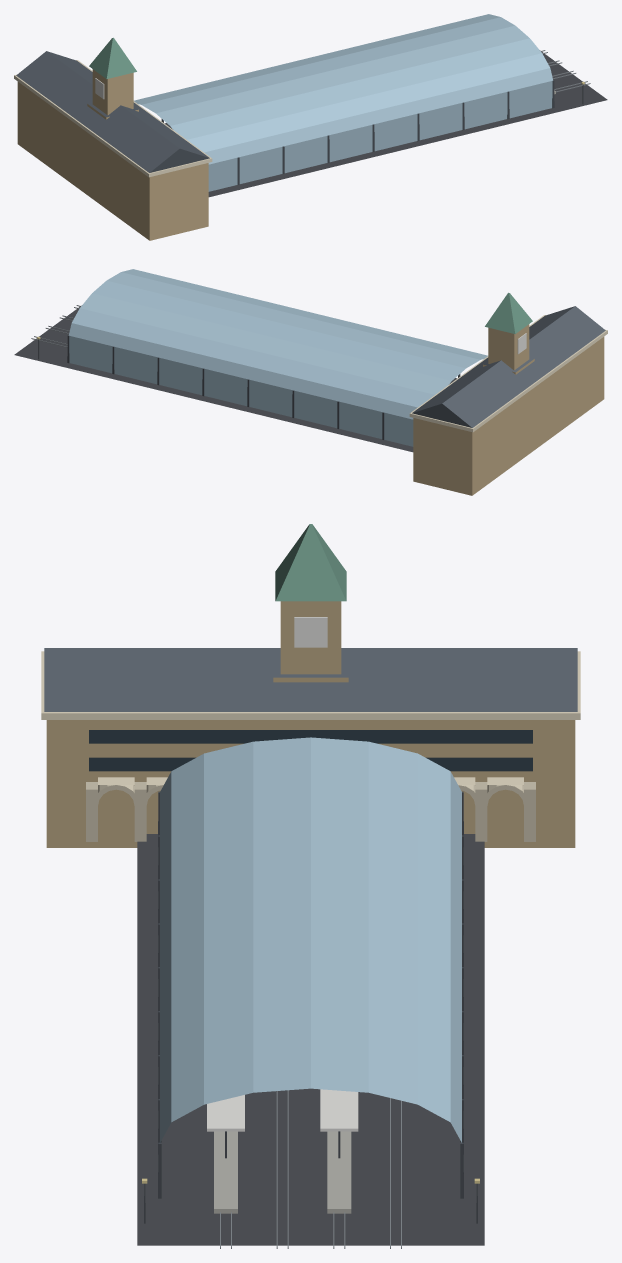
Rendered from desktop.glb.
3 views of the same model, one above another, from view 1: azimuth 30°, elevation 25°; view 2: azimuth 150°, elevation 25°; view 3: azimuth 270°, elevation 25° (orthographic). The views are drawn at different scales.
Parts seen in each view (by area): view 1: lm.rail-terminus; view 2: lm.rail-terminus; view 3: lm.rail-terminus.
Part boxes in pixels (<box>): lm.rail-terminus: <box>14,14,607,240</box>; lm.rail-terminus: <box>14,269,607,495</box>; lm.rail-terminus: <box>41,524,580,1248</box>.
Size of the model in its own units: 149 by 43 by 71.4.
